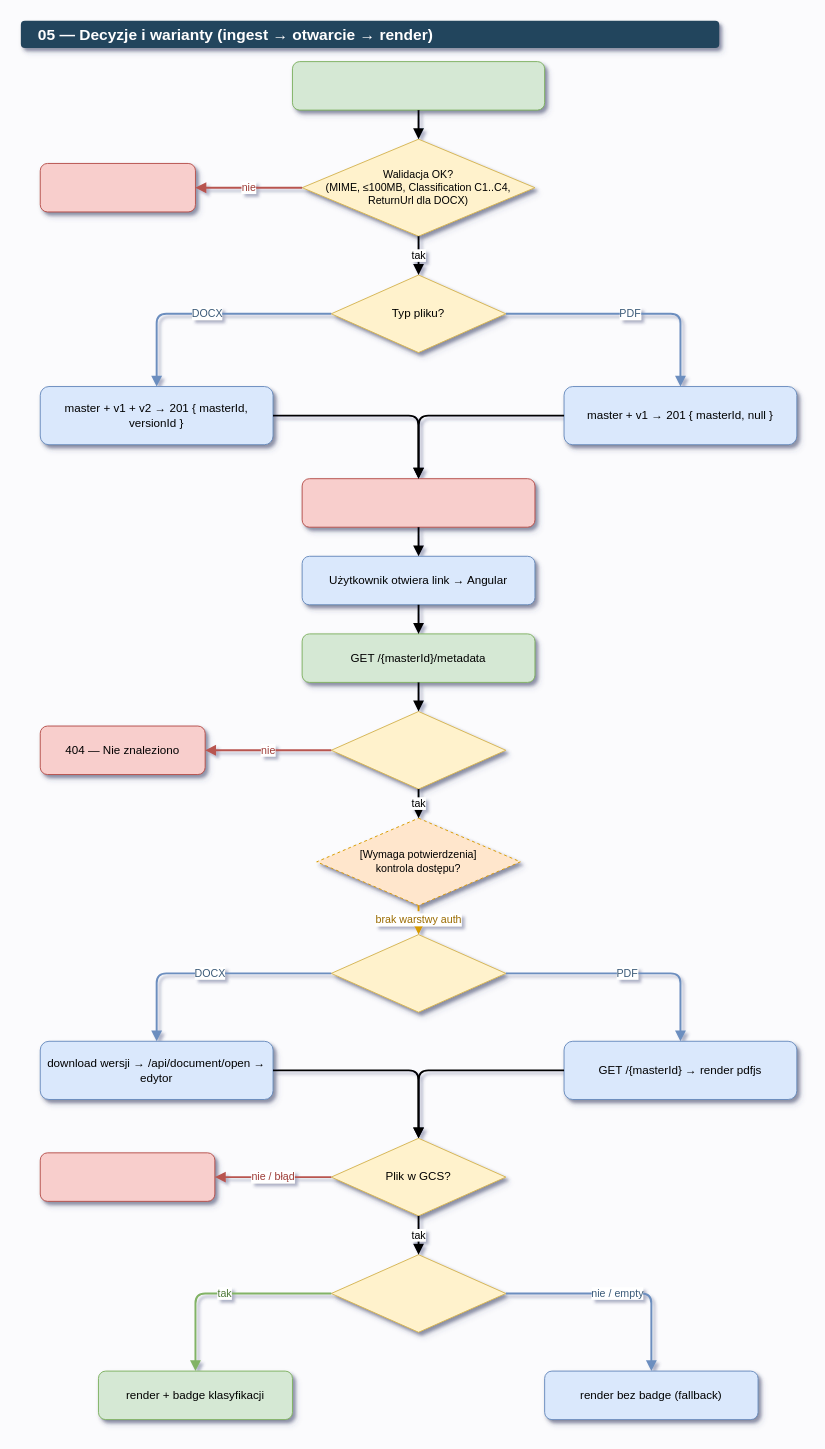
This 825x1449 diagram has some shape labels left out. The shapes that lost their labels are listed below. From the top down, each one's centre as x and y in pixels, then its label:
At (x=419, y=87): "Ingest: POST /api/v1/document".
At (x=118, y=189): "400 { error }".
At (x=419, y=504): "Integrator składa URL do GUI".
At (x=419, y=751): "Dokument istnieje?".
At (x=419, y=974): "mimeType?".
At (x=128, y=1178): "5xx / 404 — błąd pobrania".
At (x=419, y=1294): "classification niepuste?".
